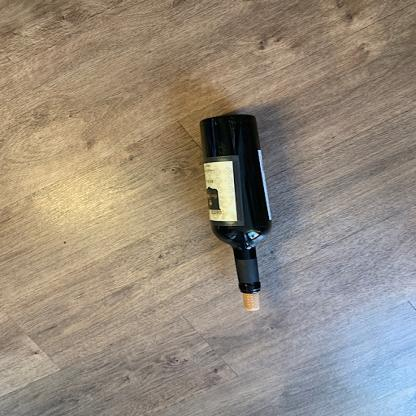trash: (198, 113, 274, 292)
